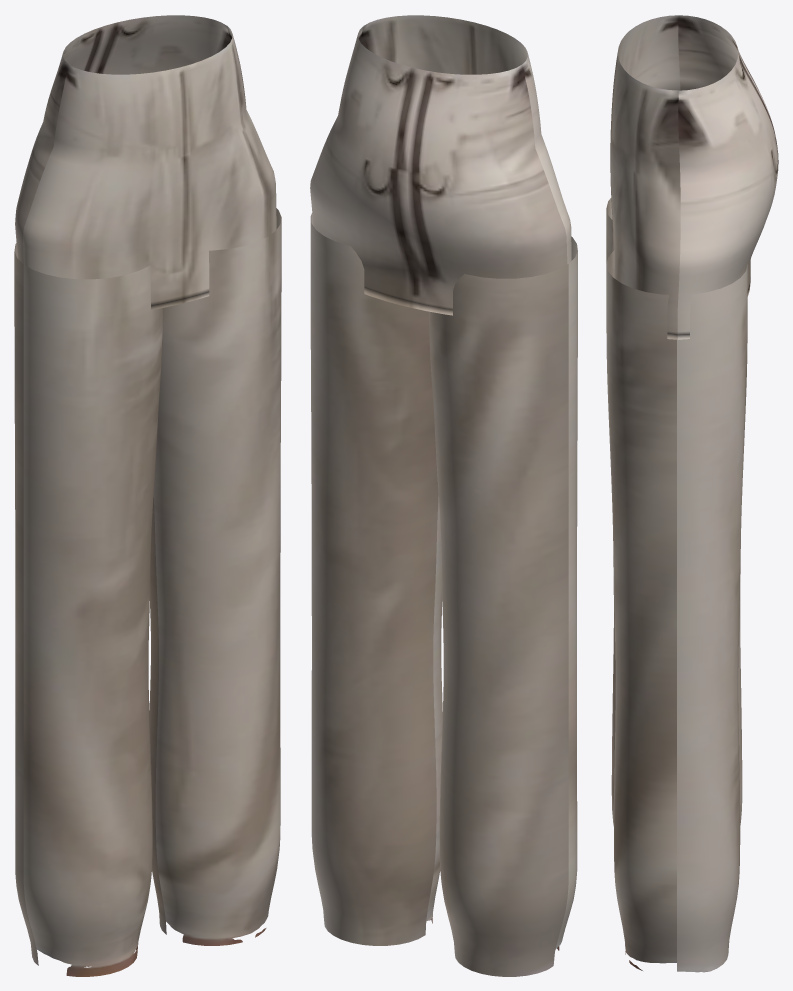
The model's file is prod-ae-champagne-trousers.glb.
3 renders of one model, left to right at view 1: azimuth 30°, elevation 25°; view 2: azimuth 150°, elevation 25°; view 3: azimuth 270°, elevation 25°, orthographic. The views are drawn at different scales.
Parts seen in each view (by area): view 1: prod-ae-champagne-trousers; view 2: prod-ae-champagne-trousers; view 3: prod-ae-champagne-trousers.
Boxes of the visible parts, x1,y1,x2,y2 form: prod-ae-champagne-trousers: (14,15,281,976); prod-ae-champagne-trousers: (310,15,577,976); prod-ae-champagne-trousers: (606,15,778,972).
Bounding box in the file's own units: 0.2691 × 0.9249 × 0.1655.
1 material, 1 textured.
